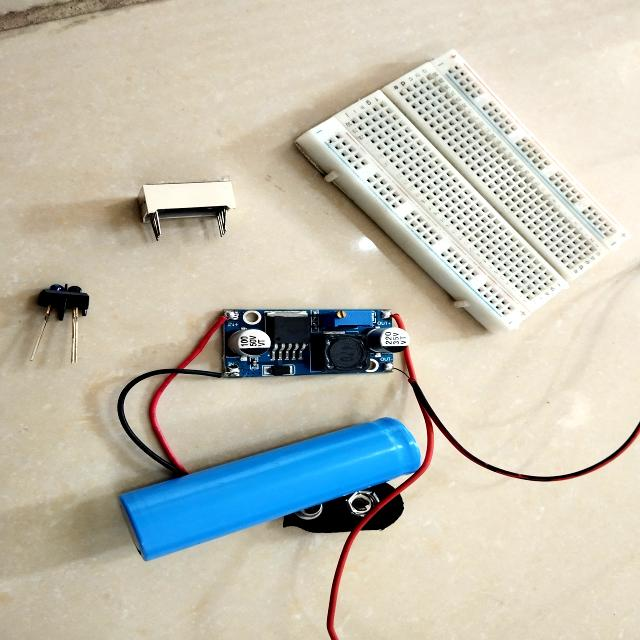3-3-Volt-Battery: (79, 401, 453, 576)
7-Segment-Display: (102, 156, 258, 248)
Breadboard: (279, 41, 640, 335)
Buck-Converter: (202, 289, 411, 402)
TCRT5000: (0, 263, 104, 395)
